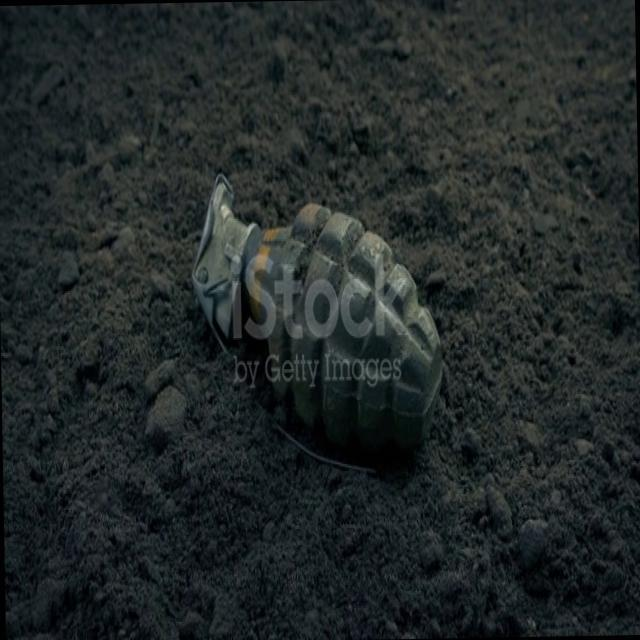grenade: (192, 156, 449, 470)
